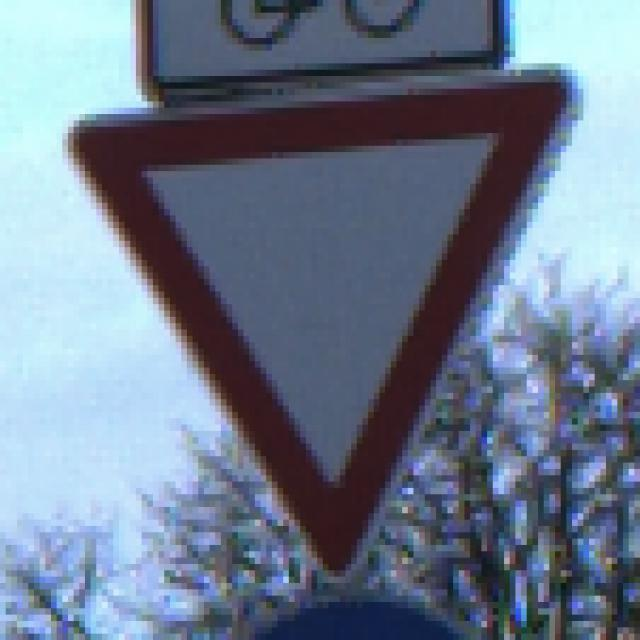Give Way: (58, 58, 590, 590)
